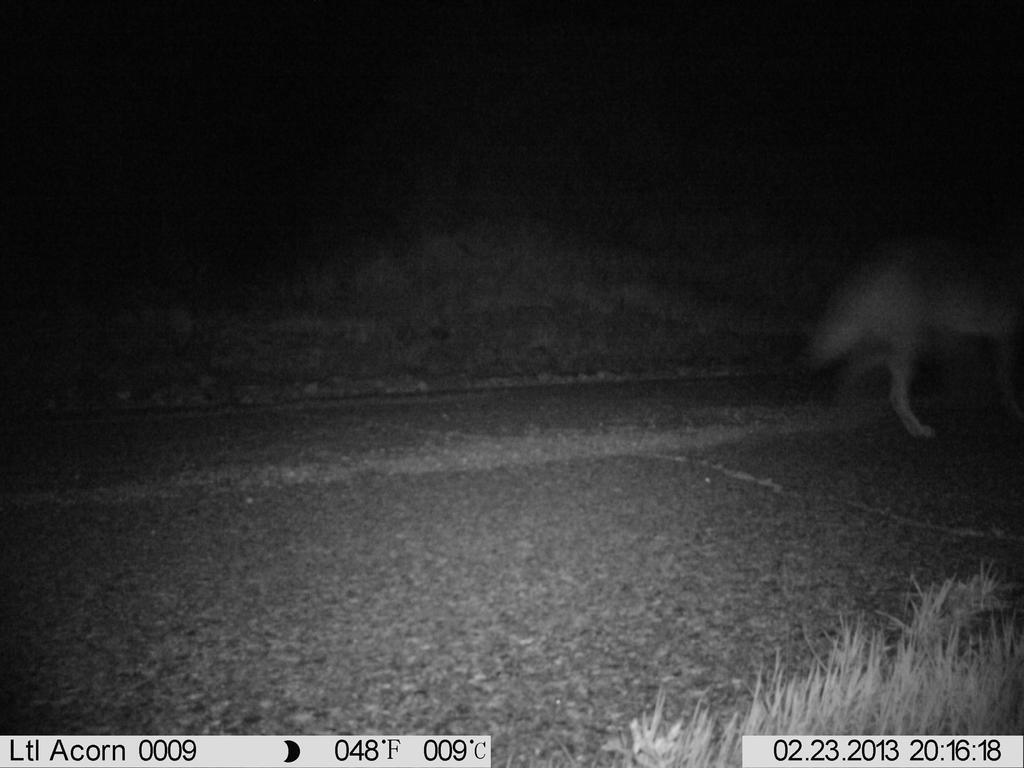coyote: (799, 233, 1021, 442)
